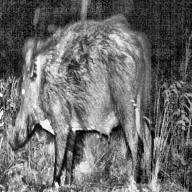boar: (12, 12, 168, 192)
